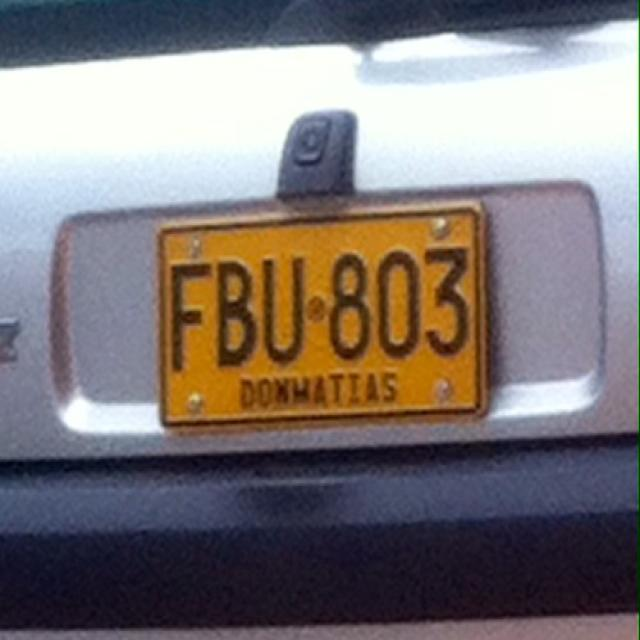placa_carro: (137, 203, 508, 445)
